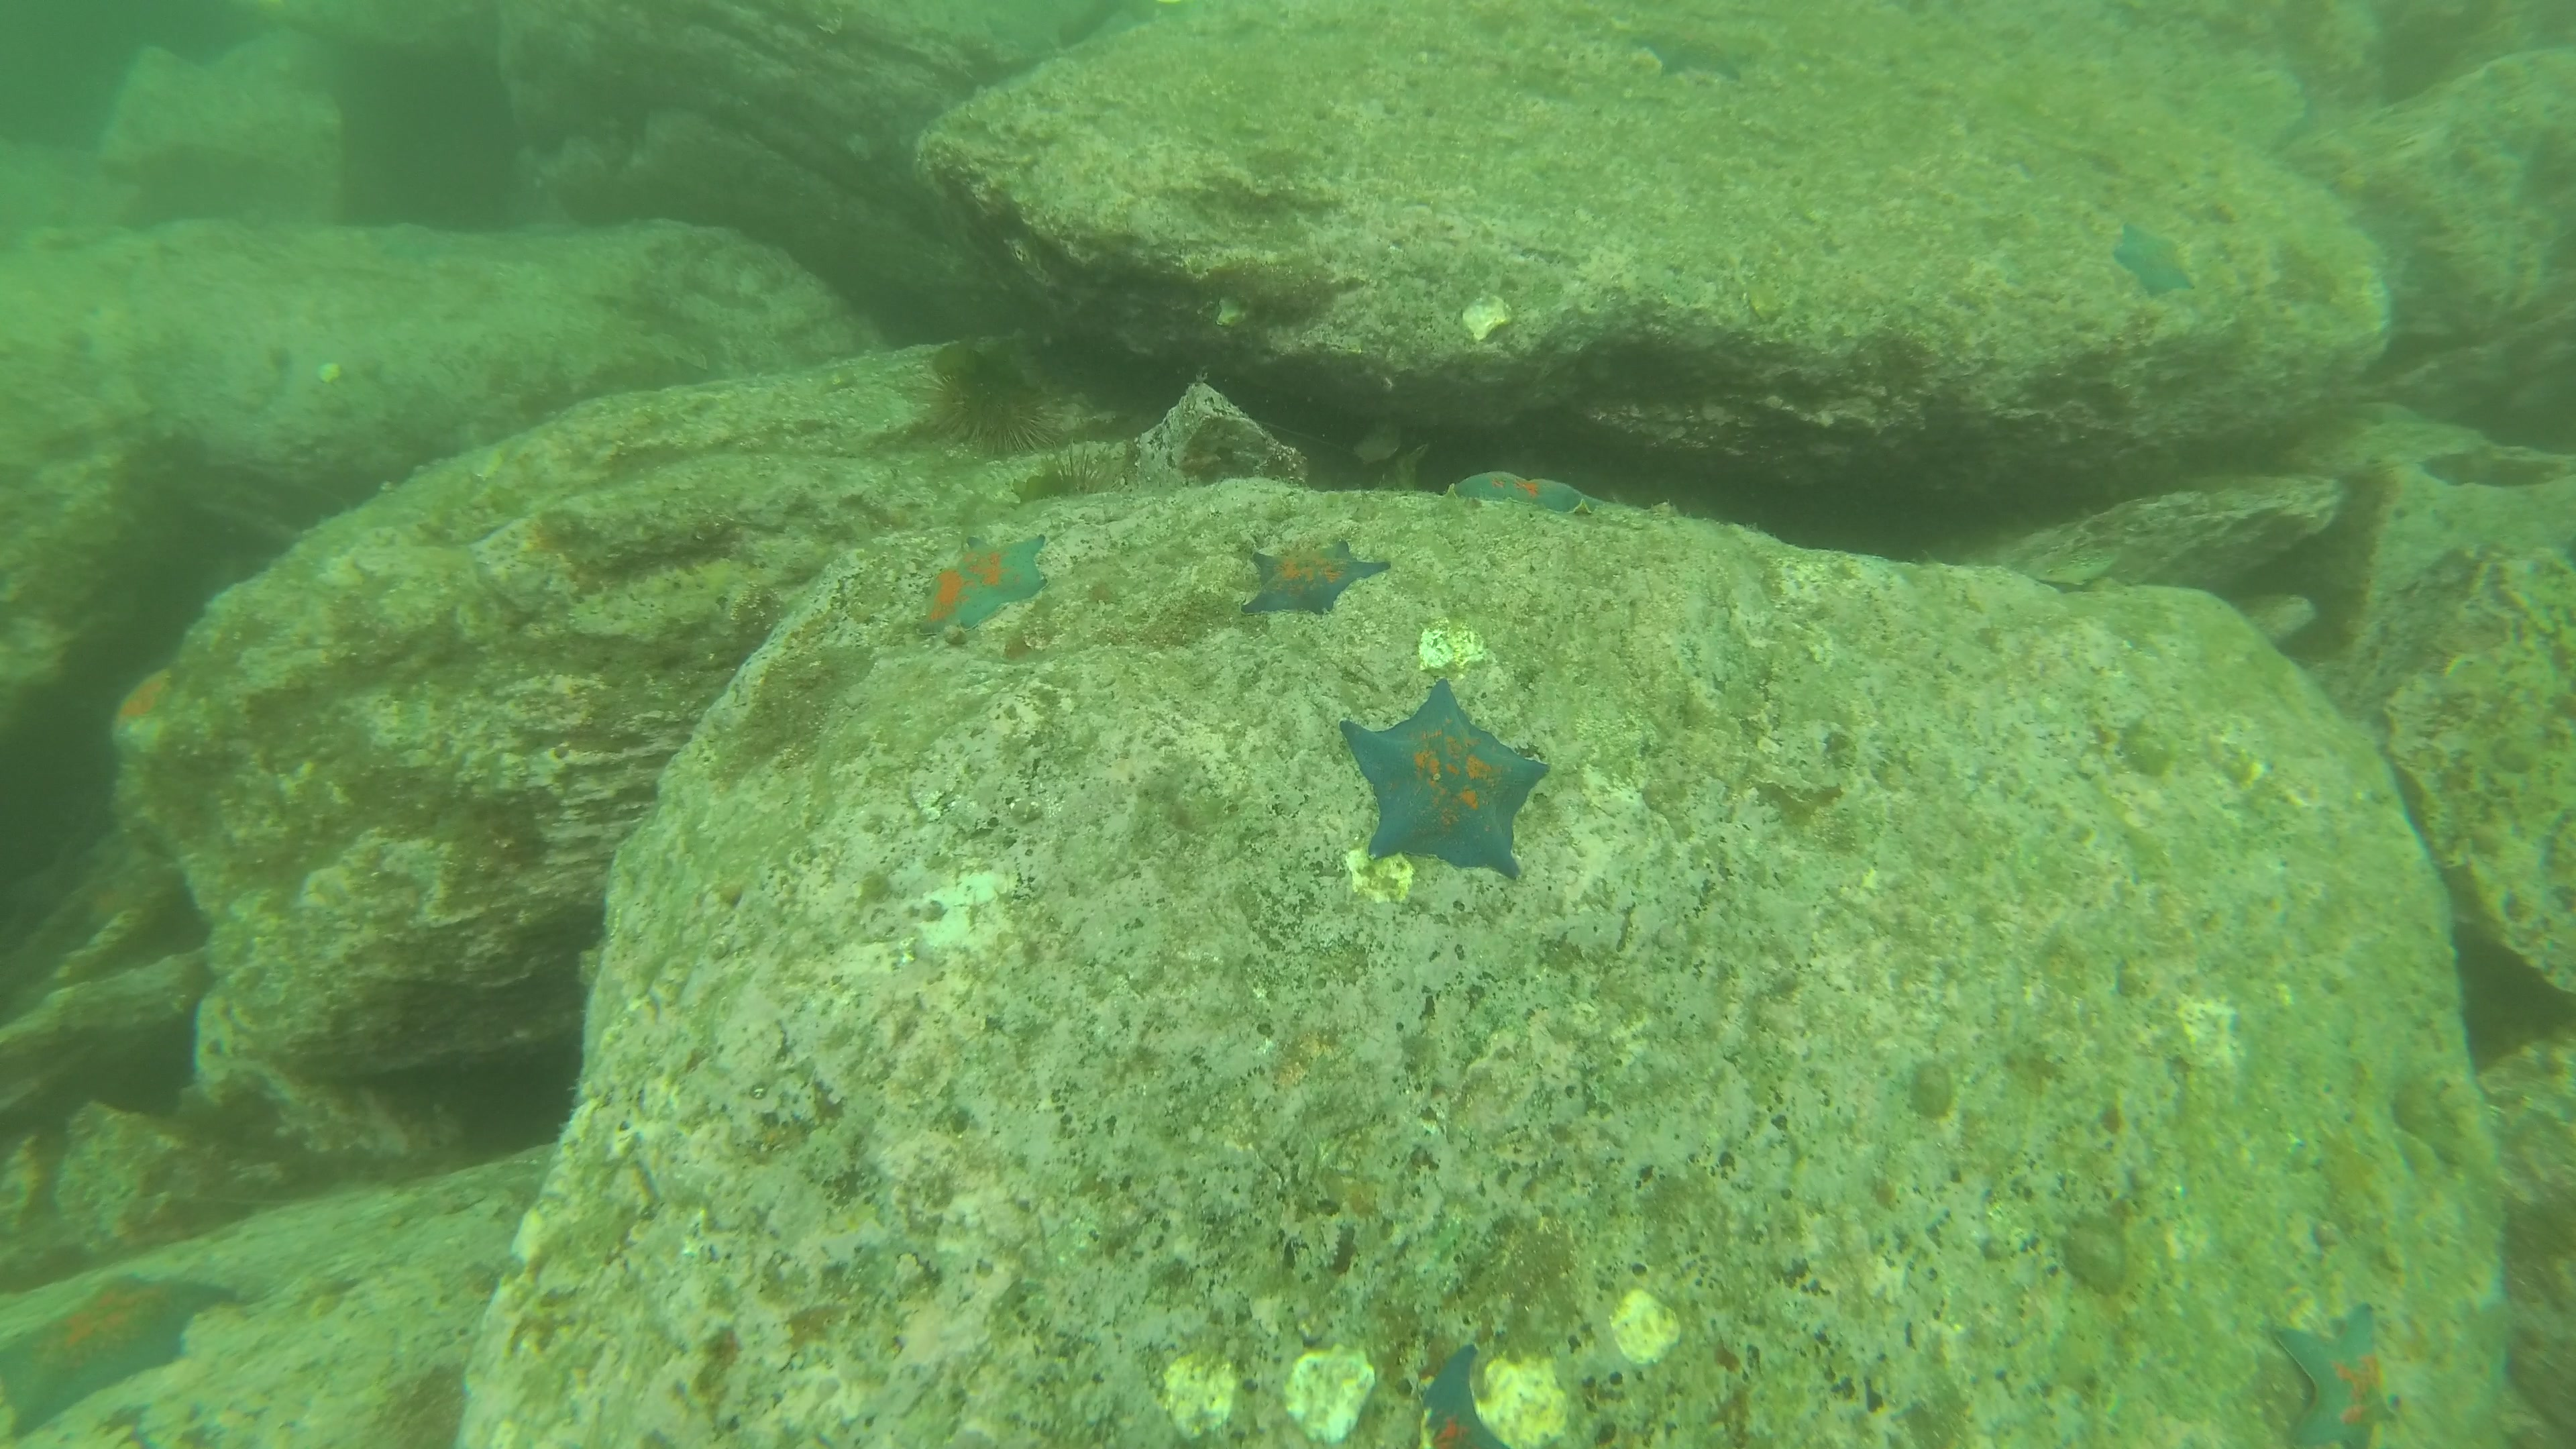echinus: (909, 361, 1065, 455), (1030, 441, 1134, 550)
starfish: (1341, 678, 1550, 879), (0, 1272, 239, 1438), (2272, 1302, 2396, 1449), (915, 534, 1046, 637), (1394, 1343, 1511, 1449), (1242, 541, 1391, 619), (1444, 467, 1605, 527), (113, 669, 175, 768), (2111, 223, 2194, 295), (1628, 32, 1741, 81)
